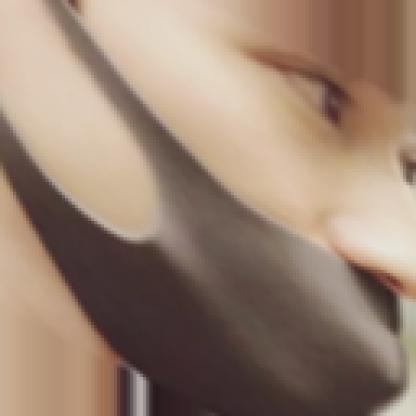mask_weared_incorrect: (0, 0, 413, 384)
